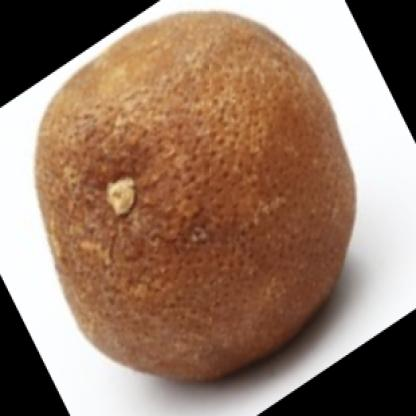rotten: (35, 13, 356, 383)
